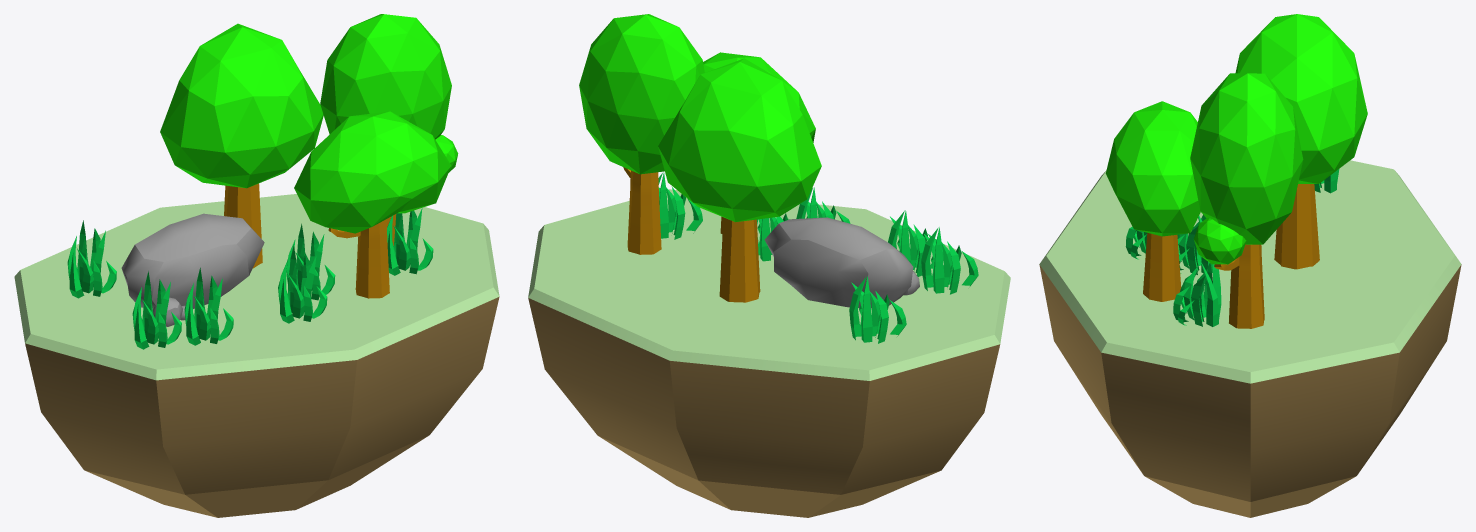
The model's file is Island.fbx.
The picture shows the model from 3 angles, left to right: view 1: azimuth 30°, elevation 25°; view 2: azimuth 150°, elevation 25°; view 3: azimuth 270°, elevation 25°; orthographic projection. The views are drawn at different scales.
Visible parts, largest first — view 1: Island, Tree:Leaf (×2), Tree1:Leaf, Grass:Rock_07, Tree:Trunk, Tree1:Trunk; view 2: Island, Tree1:Leaf, Tree:Leaf (×2), Grass:Rock_07, Tree1:Trunk, Tree:Trunk, grass_03 (×2); view 3: Island, Tree:Leaf (×2), Tree1:Leaf, Tree:Trunk (×2), Tree1:Trunk, Tree:Leaf2, grass_09.
Boxes of the visible parts, left/top/right/bottom form: Island: left=14, top=194, right=499, bottom=517; Tree:Leaf (×2): left=294, top=14, right=451, bottom=233; Tree1:Leaf: left=160, top=23, right=323, bottom=188; Grass:Rock_07: left=121, top=213, right=264, bottom=308; Tree:Trunk: left=328, top=219, right=389, bottom=298; Tree1:Trunk: left=224, top=183, right=262, bottom=268; Island: left=528, top=189, right=1010, bottom=517; Tree1:Leaf: left=658, top=58, right=821, bottom=222; Tree:Leaf (×2): left=579, top=14, right=815, bottom=174; Grass:Rock_07: left=764, top=217, right=913, bottom=308; Tree1:Trunk: left=719, top=217, right=760, bottom=302; Tree:Trunk: left=623, top=167, right=661, bottom=254; grass_03 (×2): left=861, top=227, right=944, bottom=342; Island: left=1039, top=160, right=1461, bottom=517; Tree:Leaf (×2): left=1105, top=73, right=1303, bottom=244; Tree1:Leaf: left=1235, top=14, right=1367, bottom=183; Tree:Trunk (×2): left=1143, top=233, right=1264, bottom=328; Tree1:Trunk: left=1274, top=184, right=1319, bottom=269; Tree:Leaf2: left=1193, top=218, right=1246, bottom=264; grass_09: left=1200, top=261, right=1218, bottom=326.
Bounding box in the file's own units: 460 × 415 × 344.
